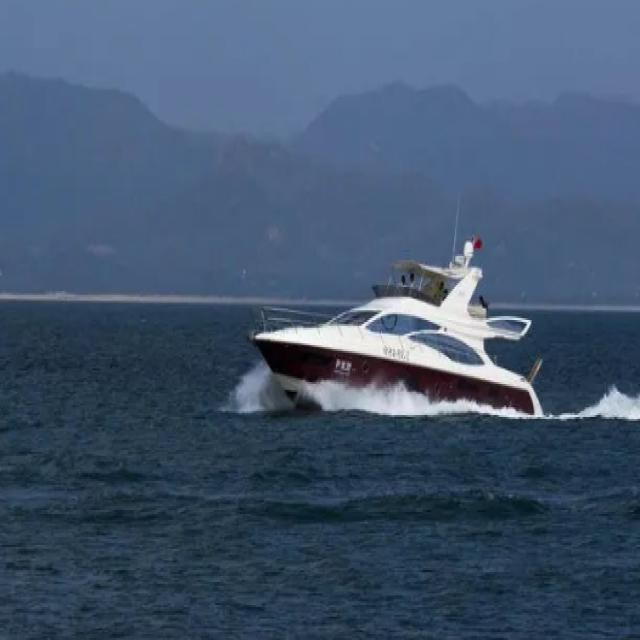houseboat: (248, 231, 552, 450)
